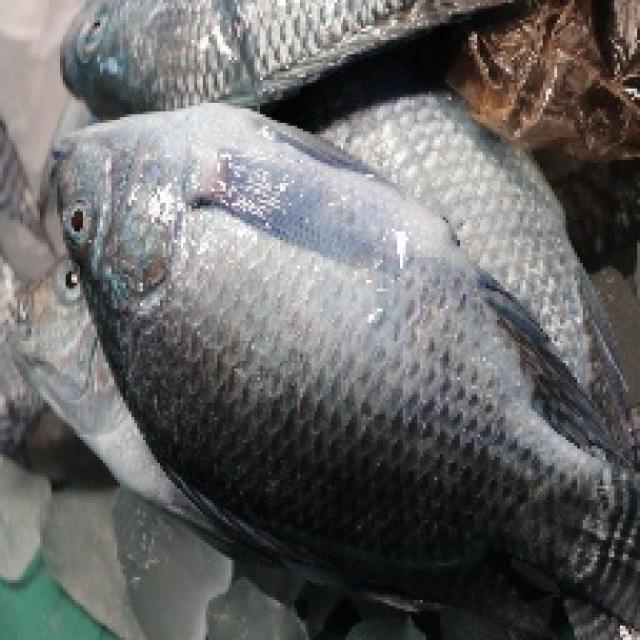Fresh: (47, 84, 626, 584)
